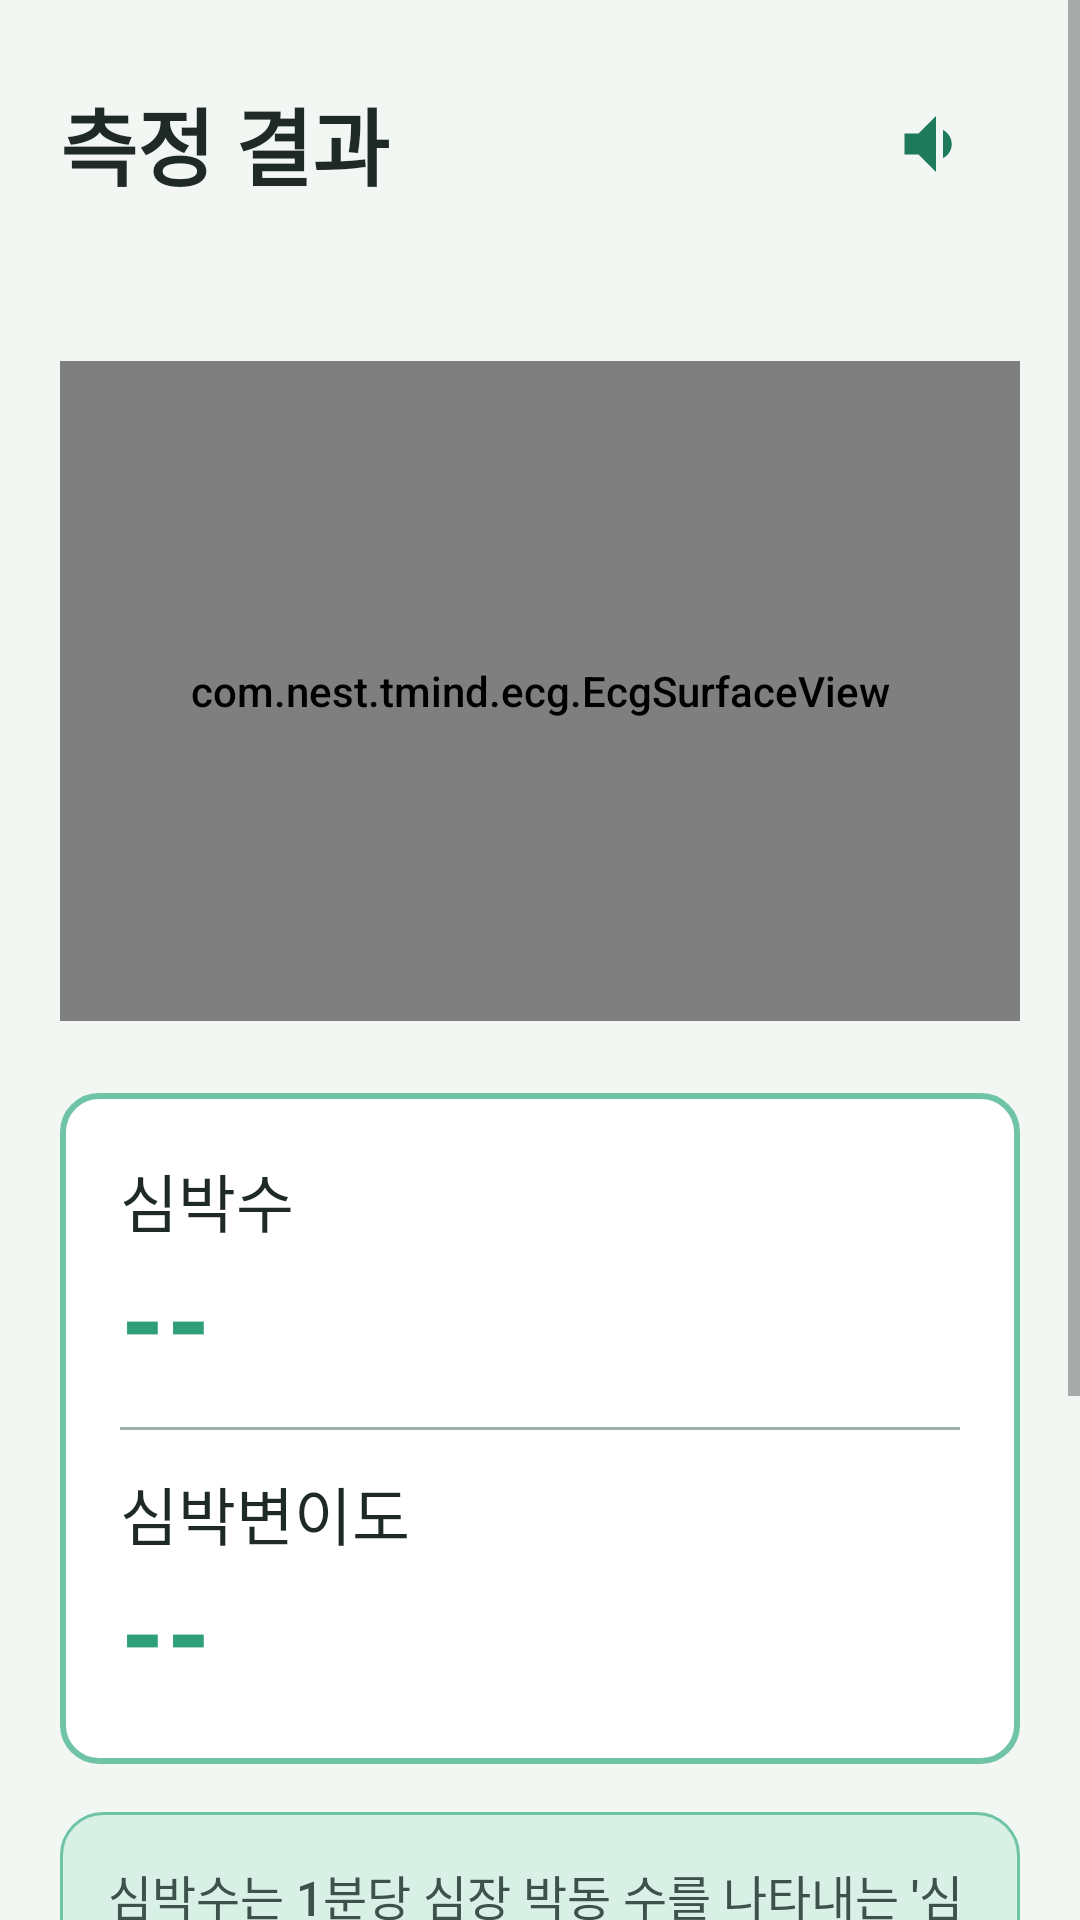

Screen size 1080*1920. Icon name, then its center in pixels as (x=x, y=y):
읽어주기: (x=928, y=144)
